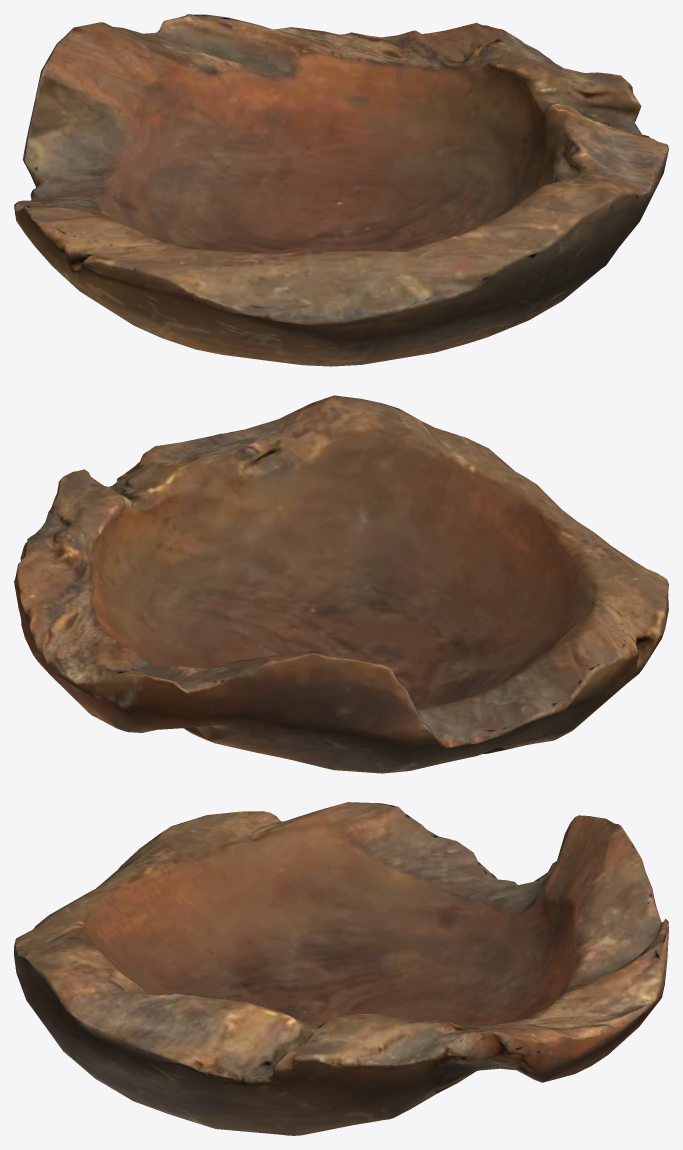
File: wooden_bowl_01.glb
3 renders of one model, top to bottom at view 1: azimuth 30°, elevation 25°; view 2: azimuth 150°, elevation 25°; view 3: azimuth 270°, elevation 25°, orthographic. The views are drawn at different scales.
Parts seen in each view (by area): view 1: body; view 2: body; view 3: body.
Part boxes in pixels (left/top/right/bottom): body: left=14, top=14, right=668, bottom=366; body: left=14, top=395, right=668, bottom=773; body: left=14, top=802, right=668, bottom=1135.
Size of the model in its own units: 0.3125 by 0.0935 by 0.3089.
Materials: 1 (1 with a texture image).
